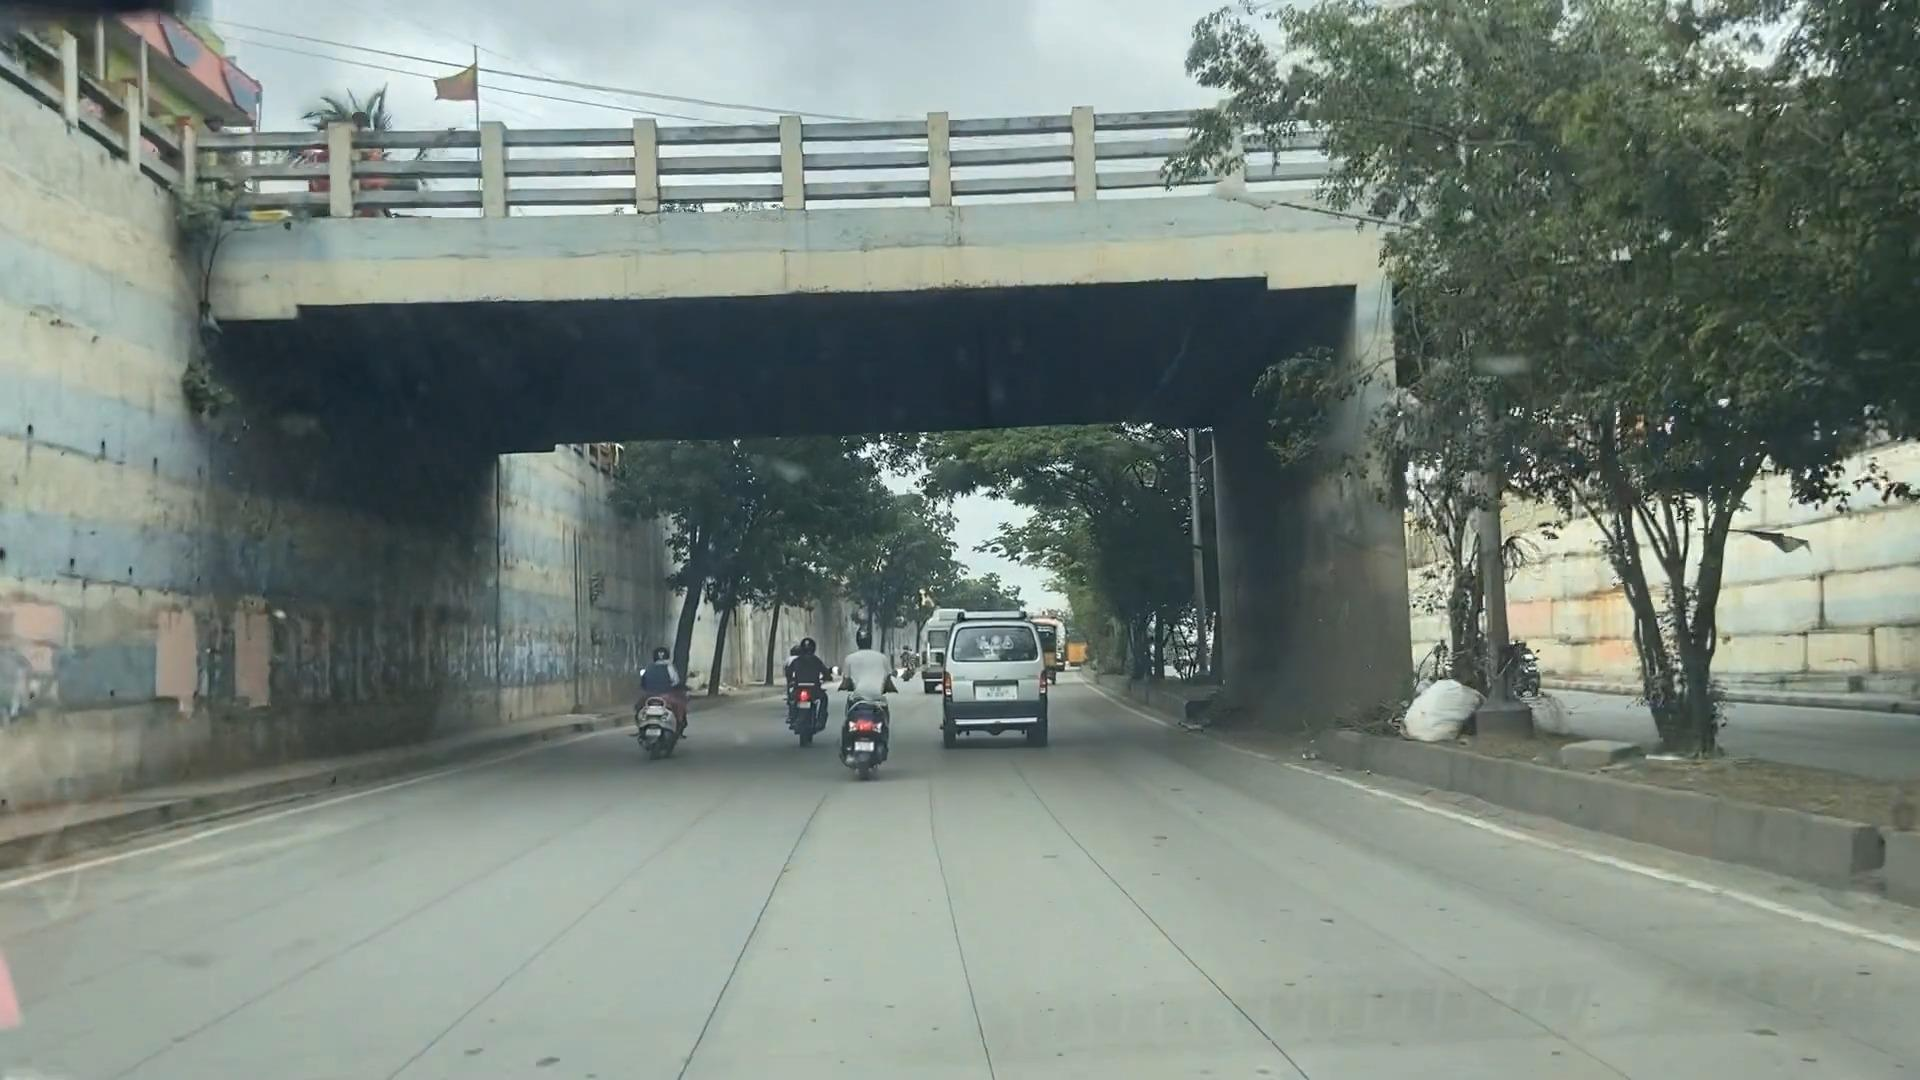LMV: (935, 605, 1065, 750), (845, 597, 910, 782)
